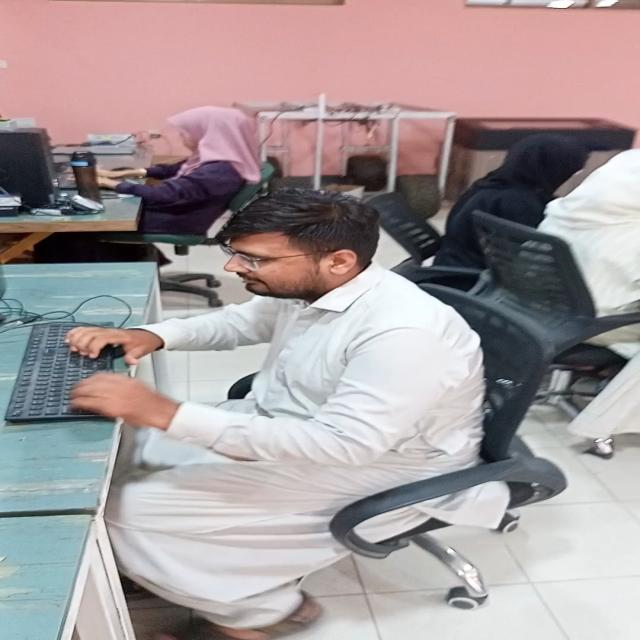dress: (126, 275, 498, 640)
glasses: (213, 245, 277, 276)
